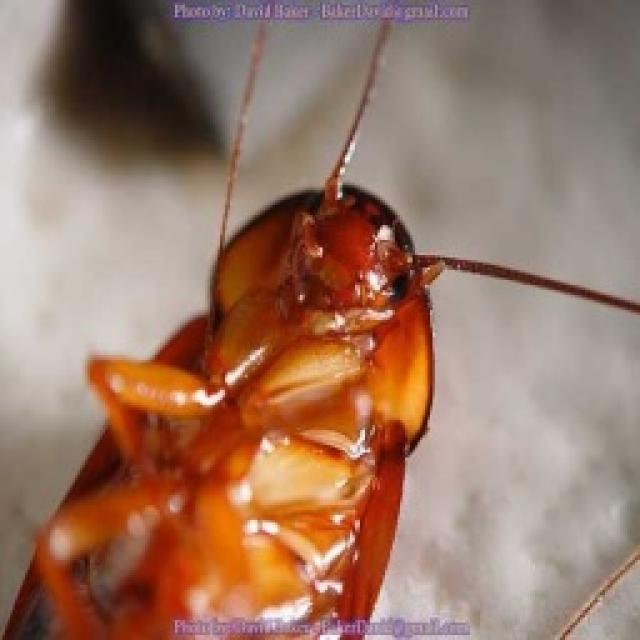cockroach: (6, 183, 442, 638)
